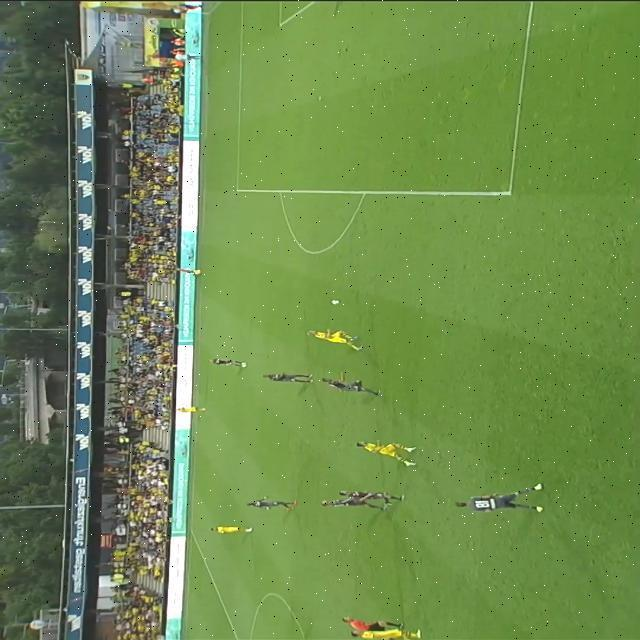ball: (328, 296, 344, 306)
player: (455, 481, 545, 516), (356, 437, 418, 466), (307, 324, 367, 352), (319, 376, 381, 397), (337, 487, 404, 505), (349, 626, 423, 640), (319, 496, 387, 511), (263, 369, 315, 385), (245, 494, 296, 510), (207, 355, 248, 368), (209, 524, 256, 535), (179, 404, 209, 414), (176, 266, 200, 274)
referee: (338, 613, 404, 632)
